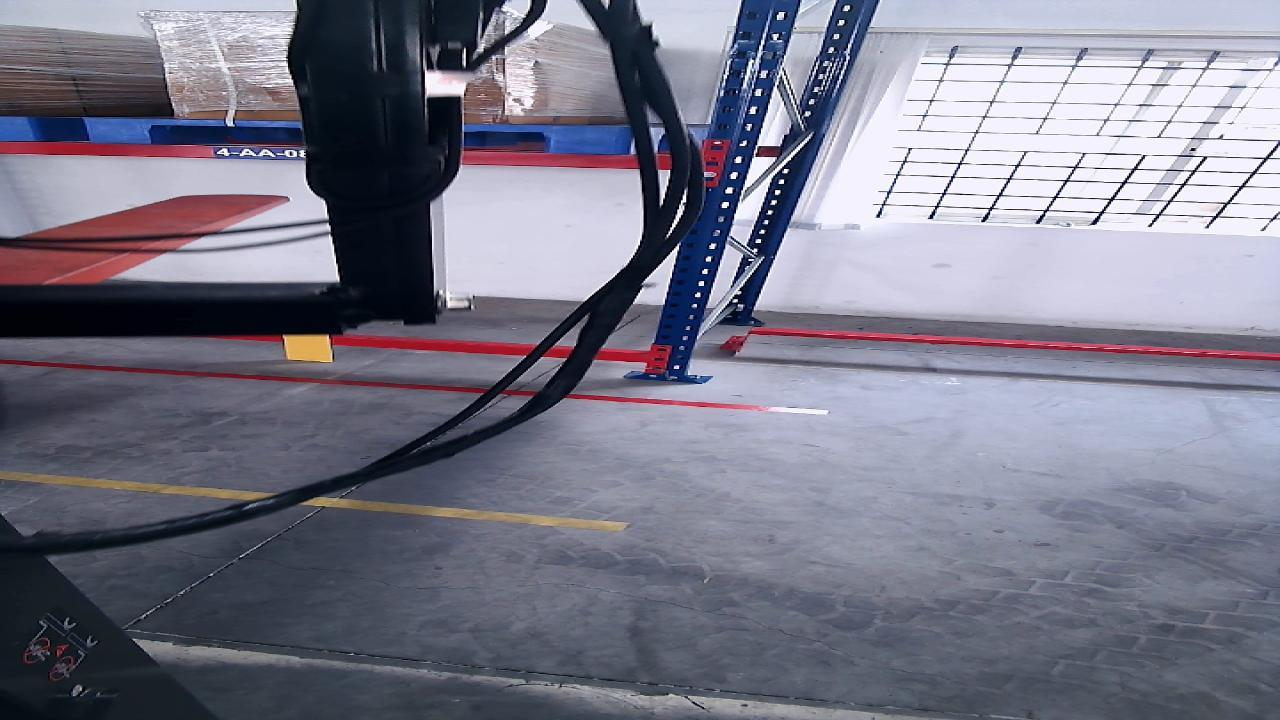h_rack: (0, 142, 674, 169)
red_line: (0, 358, 827, 415)
small_pallet: (85, 118, 625, 154)
yellow_line: (0, 470, 631, 532)
